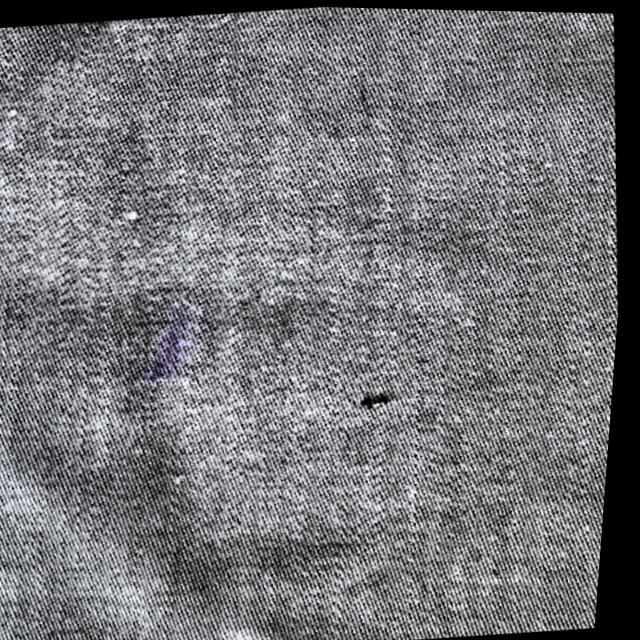Hole: (363, 393, 400, 404)
